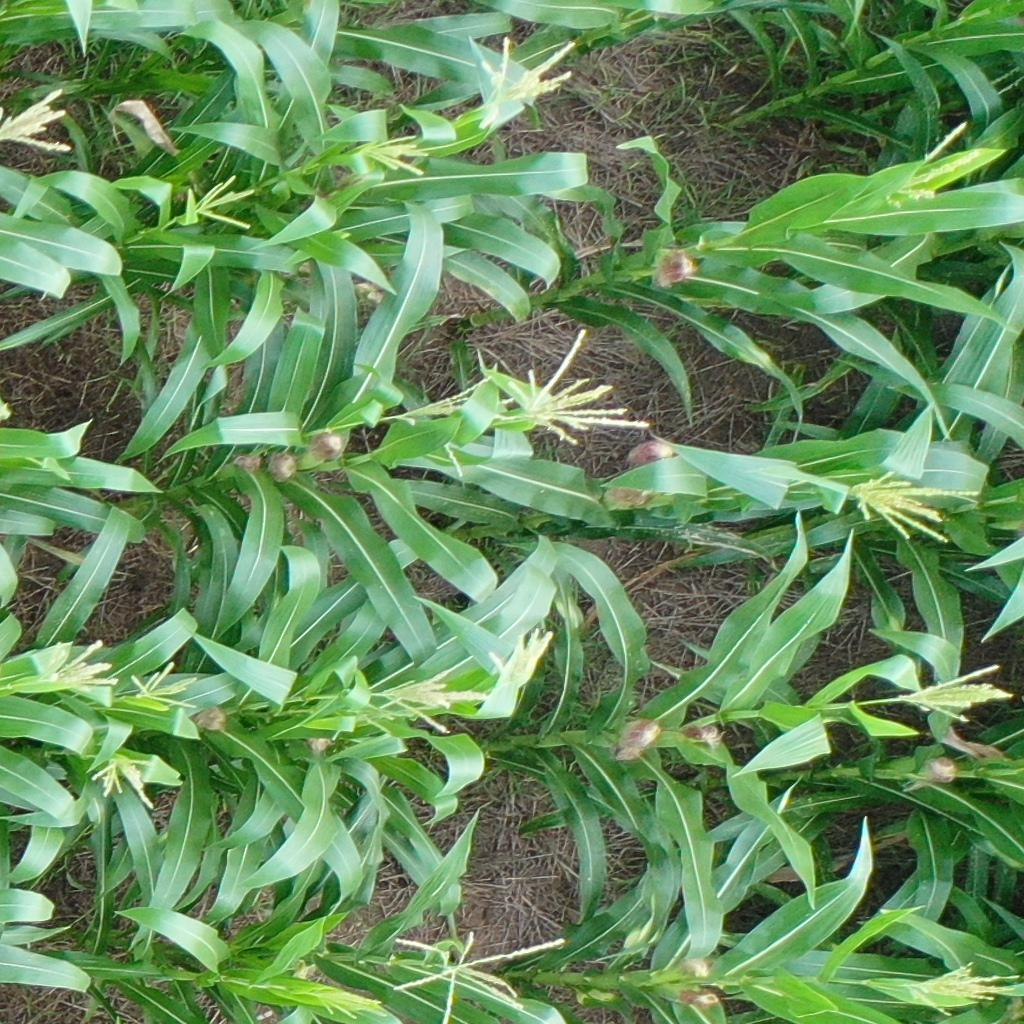Tassel: (507, 327, 652, 450), (386, 930, 566, 1024), (389, 369, 517, 489), (840, 471, 982, 545), (471, 33, 582, 127), (874, 120, 978, 215), (893, 659, 1015, 723), (377, 676, 489, 738), (913, 960, 1022, 1017), (1, 85, 81, 156), (24, 634, 117, 695), (484, 624, 554, 692), (183, 173, 261, 231), (92, 756, 161, 816), (356, 126, 431, 181), (129, 660, 204, 715), (294, 980, 382, 1021)
